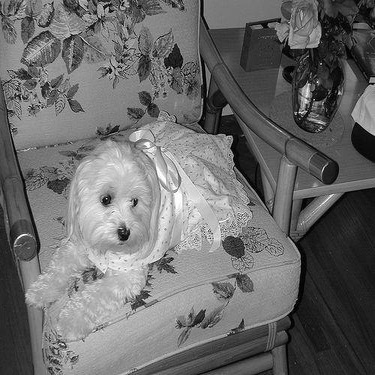dog: (15, 103, 277, 347)
